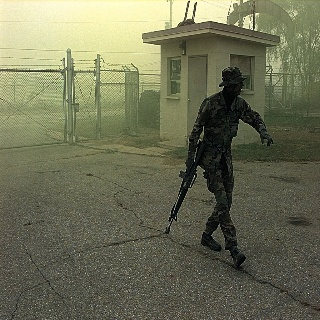rifle: (163, 139, 205, 237)
